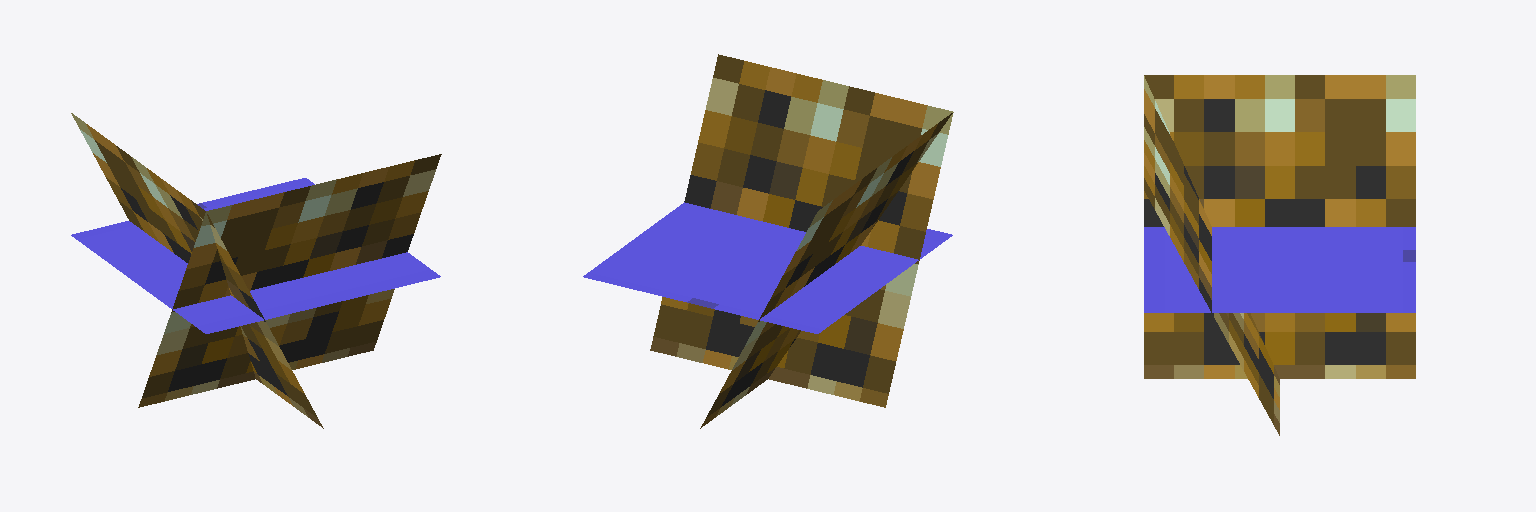
3 renders of one model, left to right at view 1: azimuth 30°, elevation 25°; view 2: azimuth 150°, elevation 25°; view 3: azimuth 270°, elevation 25°, orthographic.
Visible parts, largest first — view 1: Default; view 2: Default; view 3: Default.
Boxes of the visible parts, x1,y1,x2,y2 form: Default: [71, 113, 441, 428]; Default: [583, 54, 953, 428]; Default: [1144, 75, 1415, 435].
Size of the model in its own units: 1 by 1 by 1.
Materials: 1 (1 with a texture image).